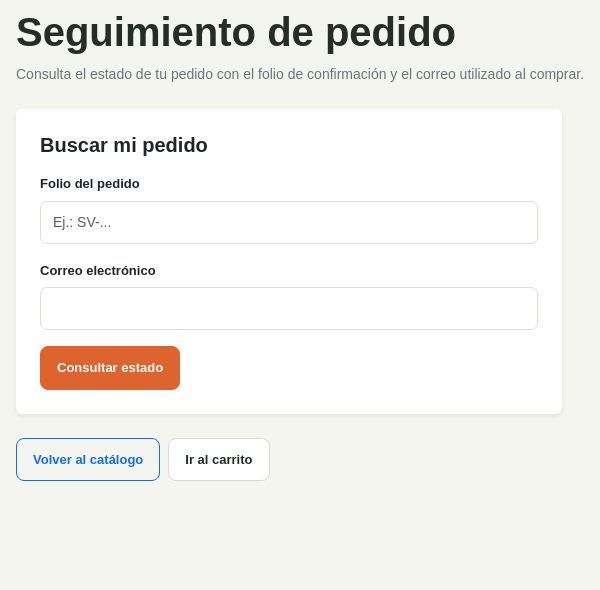
it: Flujo de pedidos del cliente › muestra un error cuando el pedido no existe
The image size is (600, 590).
In the field labelled "Folio del pedido": (289, 222) x1=40 y1=200 x2=538 y2=244, type "SV-NO-EXISTE"
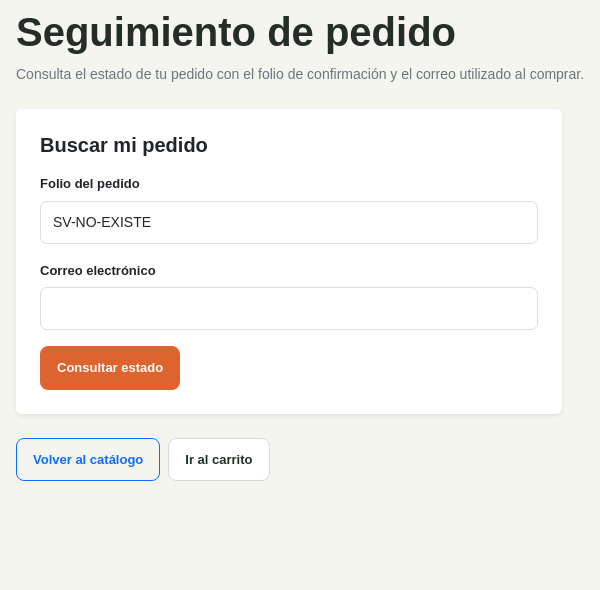
In the field labelled "Correo electrónico": (289, 308) x1=40 y1=287 x2=538 y2=330, type "cliente@example.com"
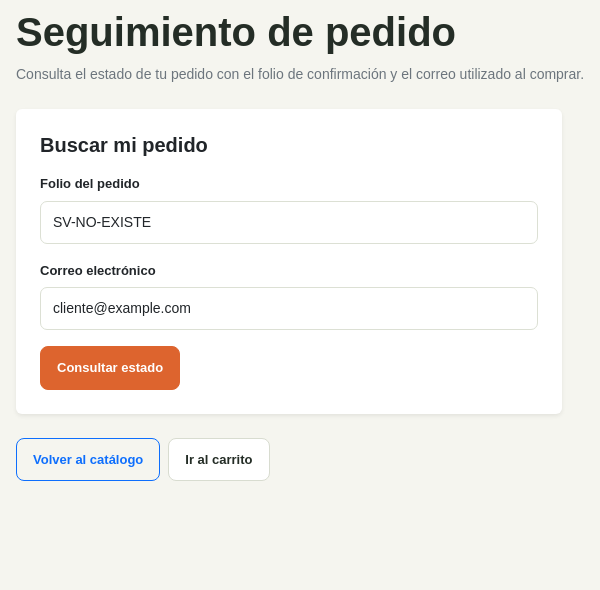
Click the button "Consultar estado": click(110, 368) x1=40 y1=346 x2=180 y2=390
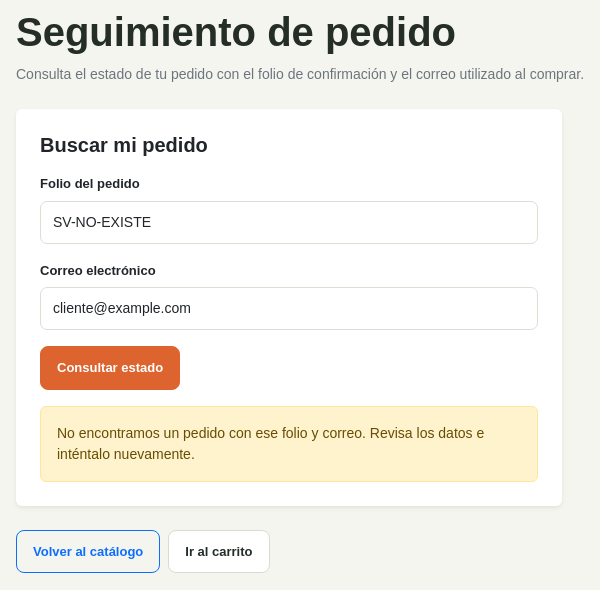
Expected: the message shows "No encontramos un pedido", x1=57 y1=424 x2=484 y2=462
